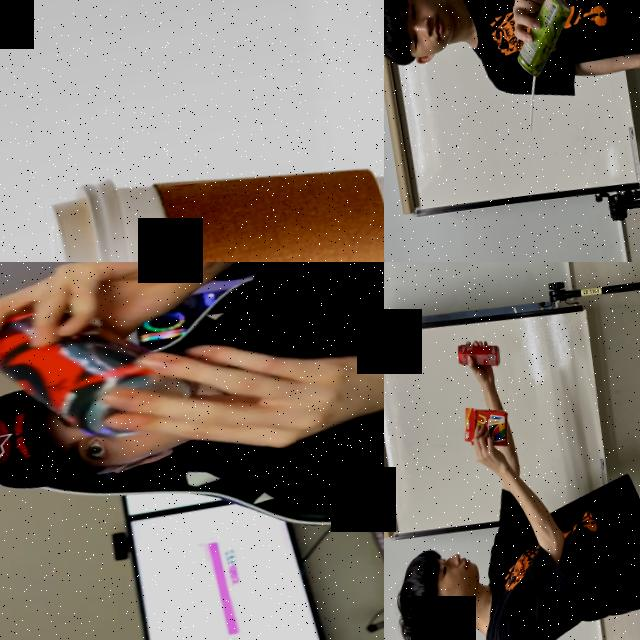can: (0, 282, 199, 456), (508, 0, 581, 80), (453, 337, 504, 372)
cup: (32, 122, 384, 262)
